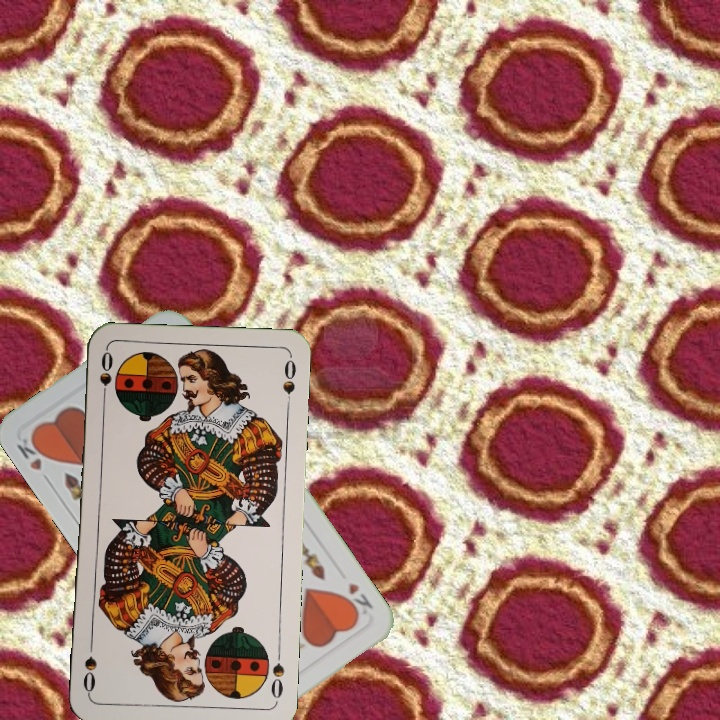HK: (12, 429, 54, 487), (339, 578, 376, 621)
SO: (95, 347, 116, 406), (266, 644, 287, 701)
